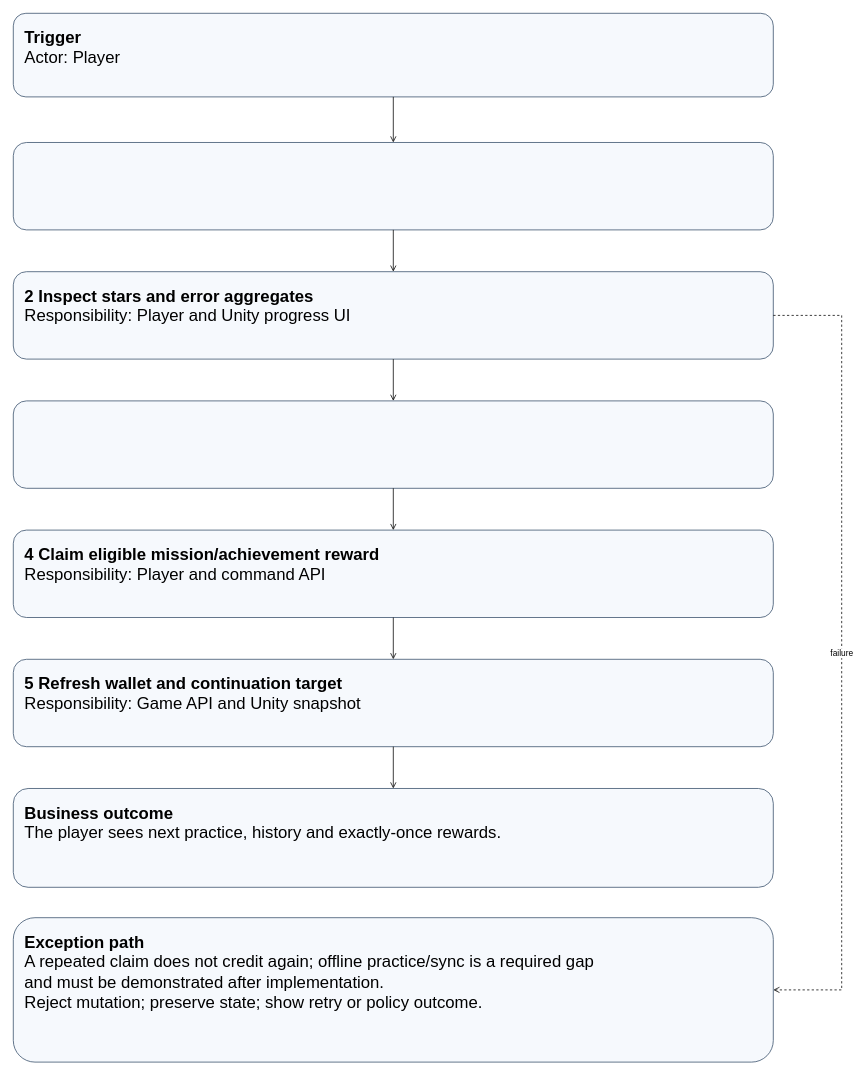
Some shapes in this 866 by 1075 pixel diagram are drawn without their labels. Each missing label, with the box of its shape:
1 Refresh server progress Responsibility: Player and state API: (13, 142, 773, 230)
3 Open suggested drill or replay Responsibility: Player and Unity drill/replay: (13, 400, 773, 488)
